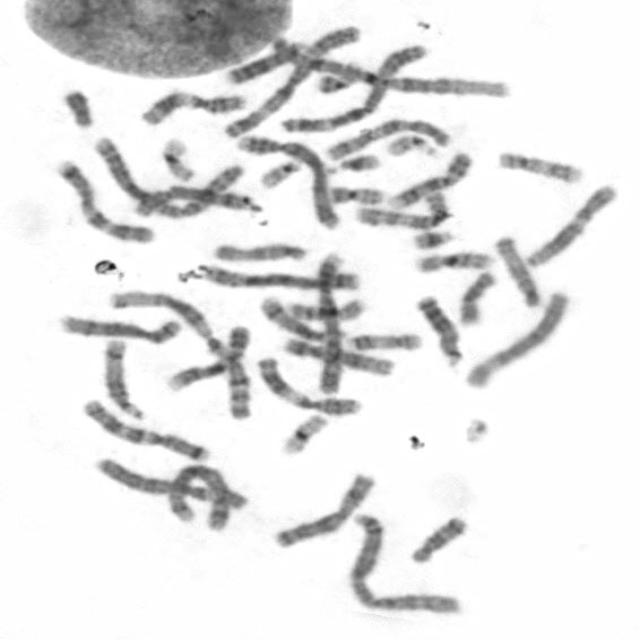A1: (104, 285, 256, 422), (265, 37, 511, 107)
A2: (342, 510, 464, 617), (89, 132, 243, 216)
A3: (218, 22, 365, 138), (274, 38, 431, 136)
B4: (233, 130, 343, 231), (311, 248, 346, 397)
B5: (185, 257, 368, 295), (163, 466, 234, 528)
C10: (324, 115, 449, 161), (352, 184, 452, 229)
C11: (253, 353, 363, 418), (134, 86, 246, 126)
C12: (521, 180, 620, 270), (279, 333, 396, 378)
C6: (459, 286, 572, 392), (89, 454, 250, 511)
C7: (52, 156, 156, 246), (77, 397, 212, 462)
C8: (128, 178, 256, 218), (54, 309, 184, 346)
C9: (163, 321, 252, 393), (383, 148, 475, 211)
D13: (412, 292, 464, 368), (224, 41, 306, 86)
D14: (257, 293, 346, 343), (97, 335, 146, 421)
D15: (491, 232, 544, 308), (209, 239, 309, 263)
E16: (282, 293, 368, 322), (410, 248, 496, 274)
E17: (493, 146, 587, 186), (344, 328, 424, 353)
E18: (405, 512, 470, 566), (453, 267, 500, 327)
F19: (276, 410, 330, 456), (156, 134, 197, 182)
F20: (315, 60, 363, 95), (324, 182, 386, 206)
G21: (328, 150, 382, 175), (408, 226, 457, 251)
G22: (254, 156, 304, 190), (381, 131, 440, 159)
X: (267, 469, 379, 551)
Y: (60, 86, 96, 129)
